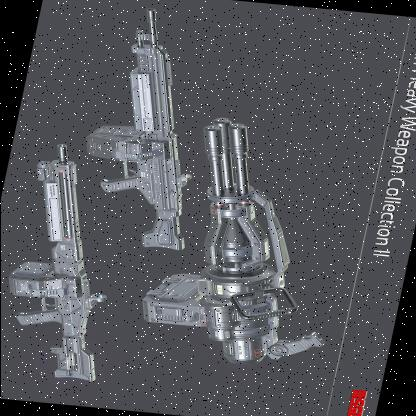rifle: (82, 41, 220, 261), (0, 184, 114, 401)
